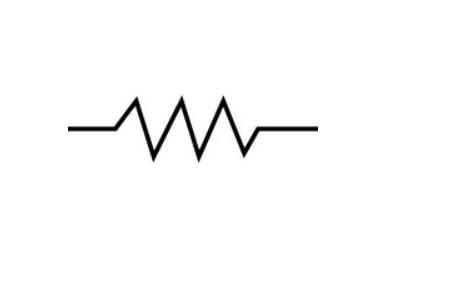resistor: (94, 86, 282, 172)
